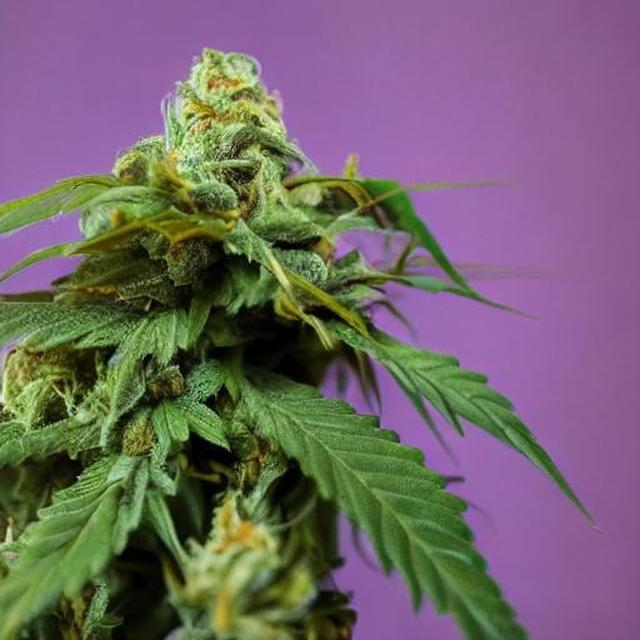Marijuana Plant: (22, 15, 616, 628)
